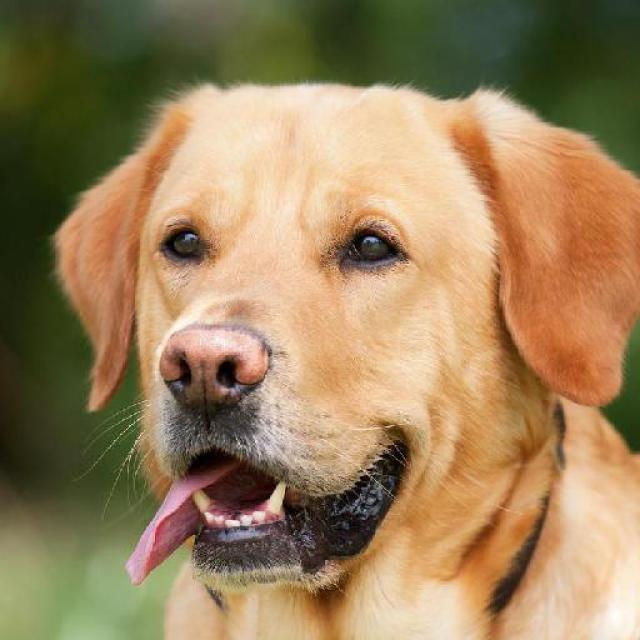happy: (37, 25, 640, 640)
